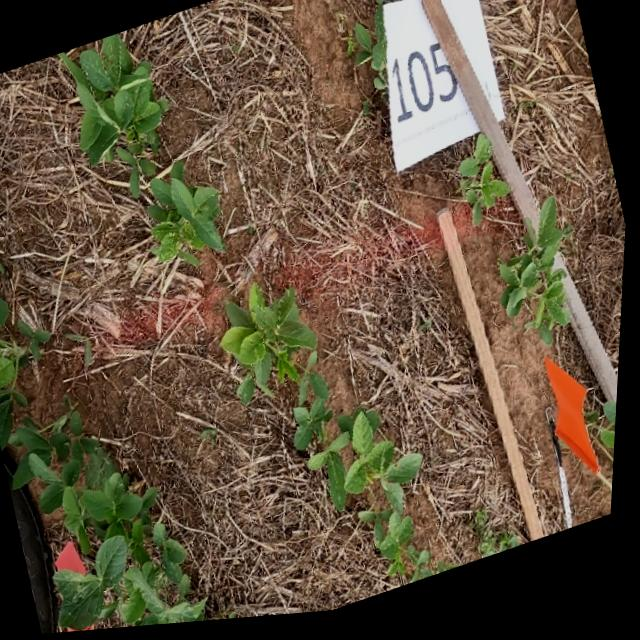caruru_weed: (478, 518, 527, 566)
soy_plant: (0, 296, 211, 632), (62, 35, 226, 267), (225, 296, 383, 514), (351, 418, 462, 591), (502, 206, 574, 352), (460, 142, 512, 232), (348, 0, 394, 100), (368, 463, 419, 505), (589, 413, 621, 479), (399, 539, 441, 589)
